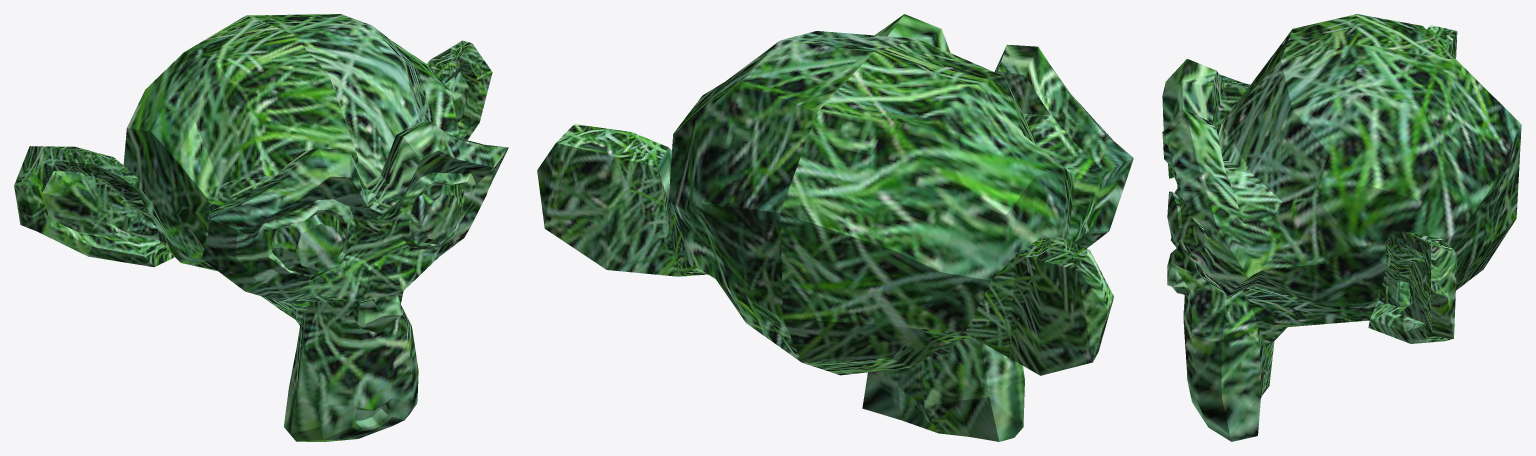
File: suzanne_grass.obj
3 views of the same model, side by side, from view 1: azimuth 30°, elevation 25°; view 2: azimuth 150°, elevation 25°; view 3: azimuth 270°, elevation 25° (orthographic). The views are drawn at different scales.
Visible parts, largest first — view 1: Suzanne; view 2: Suzanne; view 3: Suzanne.
Part boxes in pixels (x1,y1,x2,y2): Suzanne: [14, 14, 508, 441]; Suzanne: [537, 14, 1133, 441]; Suzanne: [1162, 14, 1521, 441].
Bounding box in the file's own units: 2.73 × 1.97 × 1.7.
